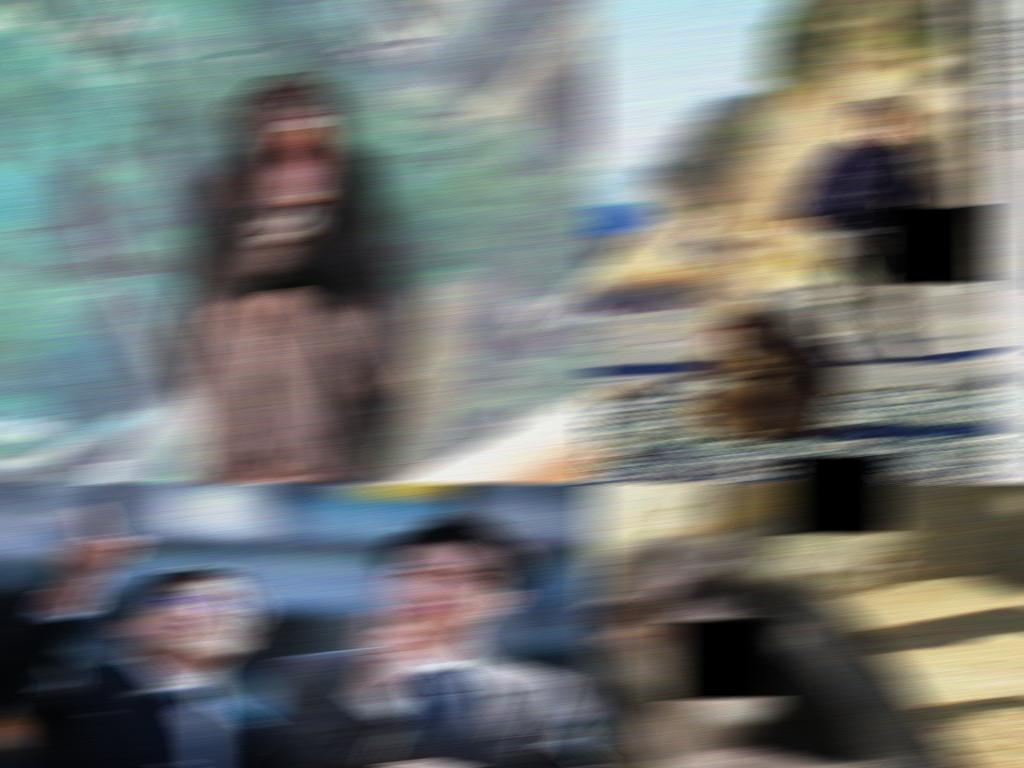Macaca fuscata: (695, 295, 850, 444)
chimpanzee: (164, 71, 411, 482), (585, 530, 987, 767)
human: (266, 512, 601, 767), (0, 504, 272, 767), (778, 98, 948, 366)
